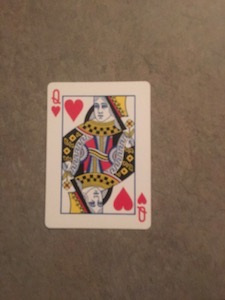QueenOfHearts: (41, 74, 161, 238)
